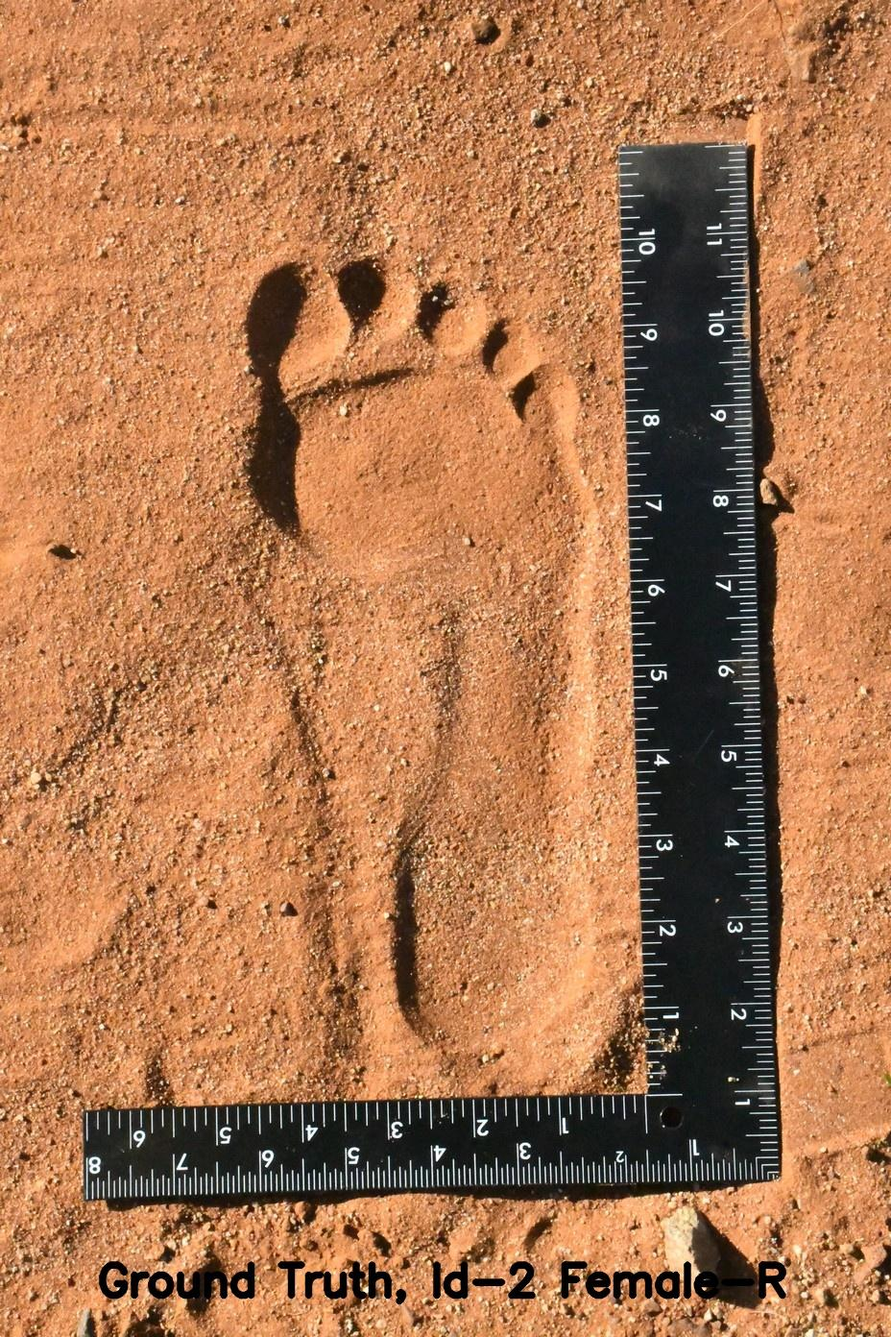human_foot_print: (205, 218, 628, 1088)
